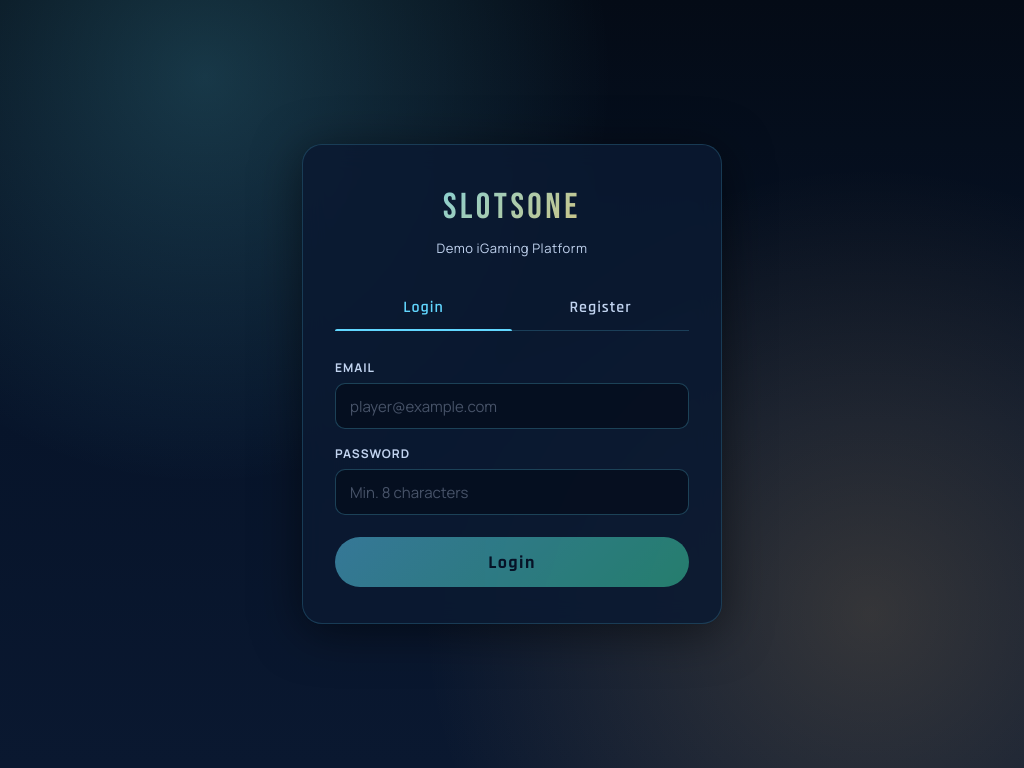
Test case: tab switching › clears error on tab switch
The image size is (1024, 768).
Note: Type valid credentials and submit to get an error
Type "a@b.com" into the field labelled "Email".
click(512, 406); type("a@b.com")  # box [335,383,689,429]
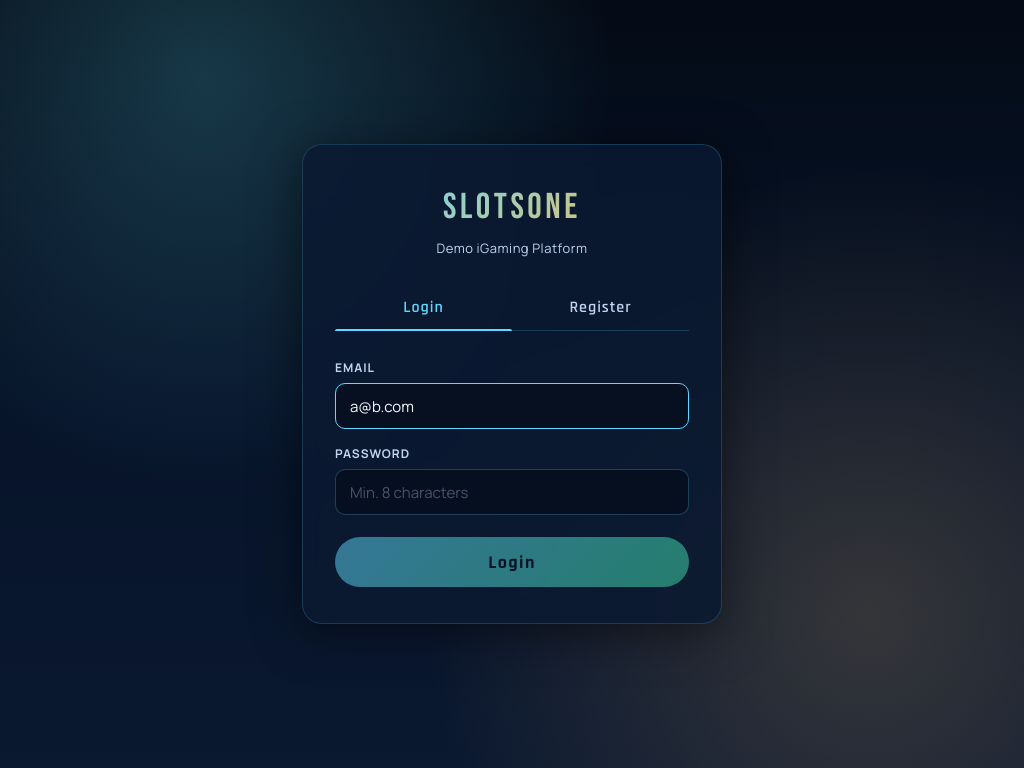
Type "password1" into the password field labelled "Password".
click(512, 492); type("password1")  # box [335,469,689,515]
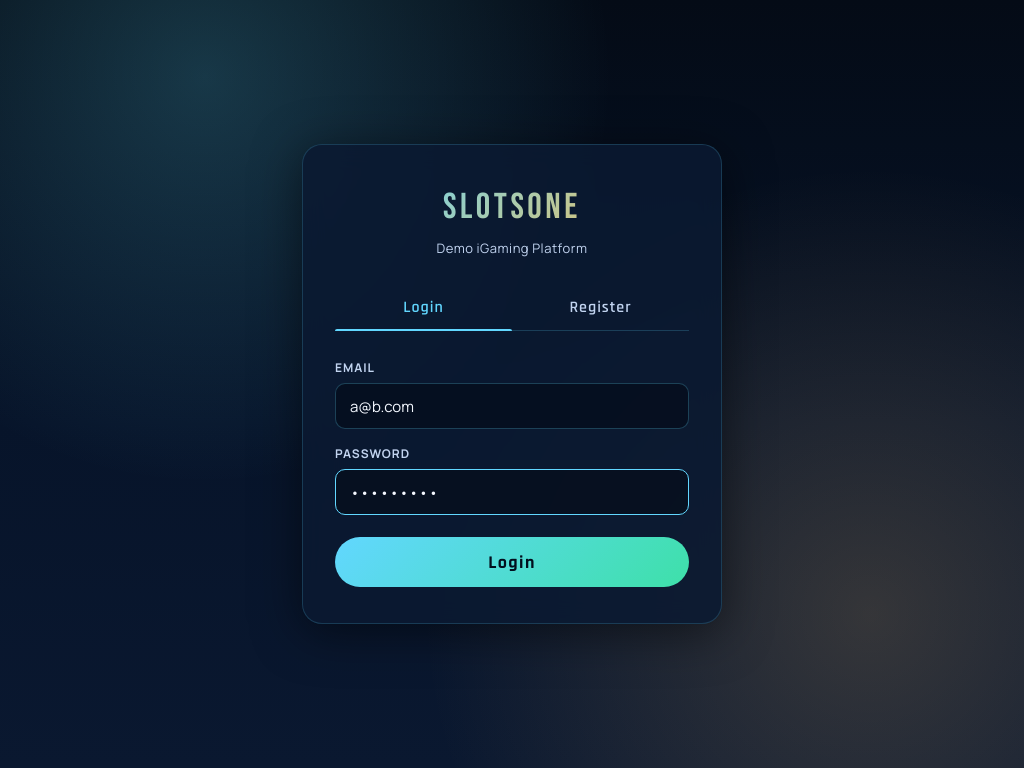
Click the button "Login".
click(512, 562)  # box [335,537,689,587]
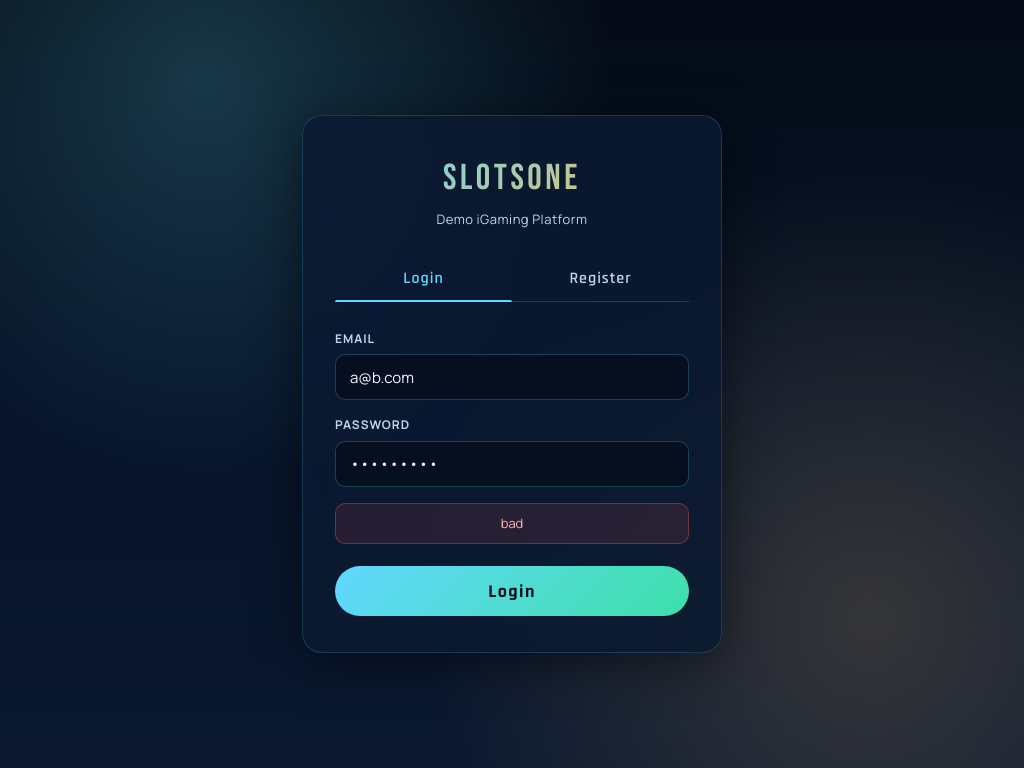
Now the message reads "bad", box [501,514,523,532]
Note: Switch tab — error should clear
Click the tab "Register".
click(600, 280)  # box [512,258,689,302]
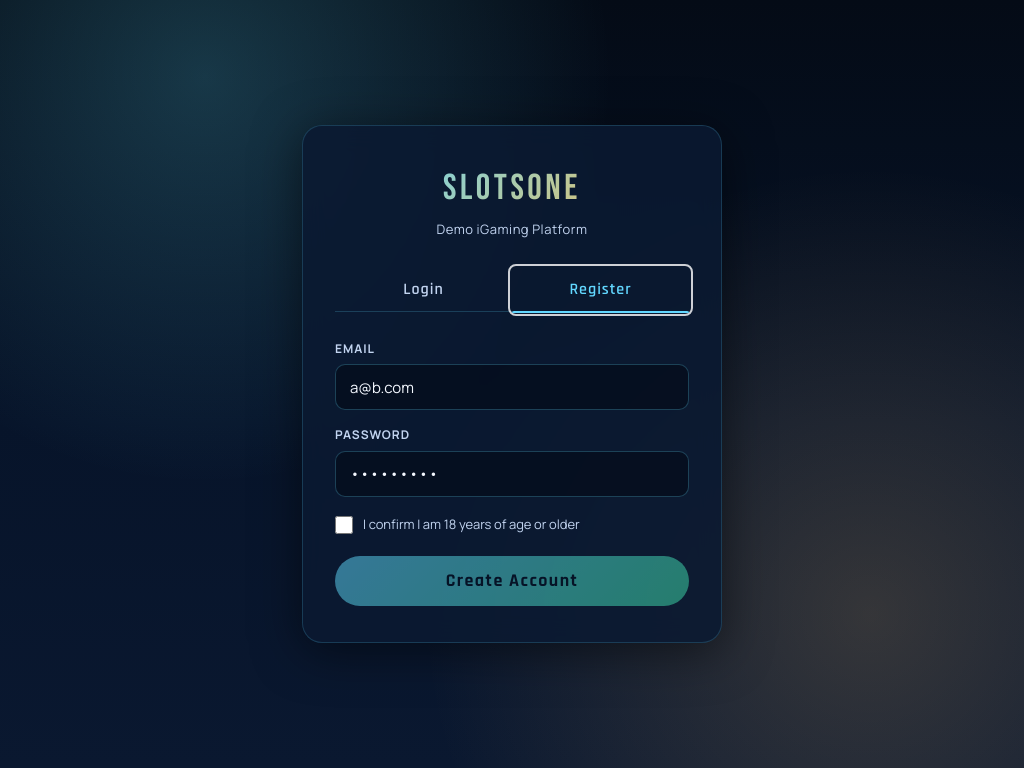
Now the message "bad" is gone
